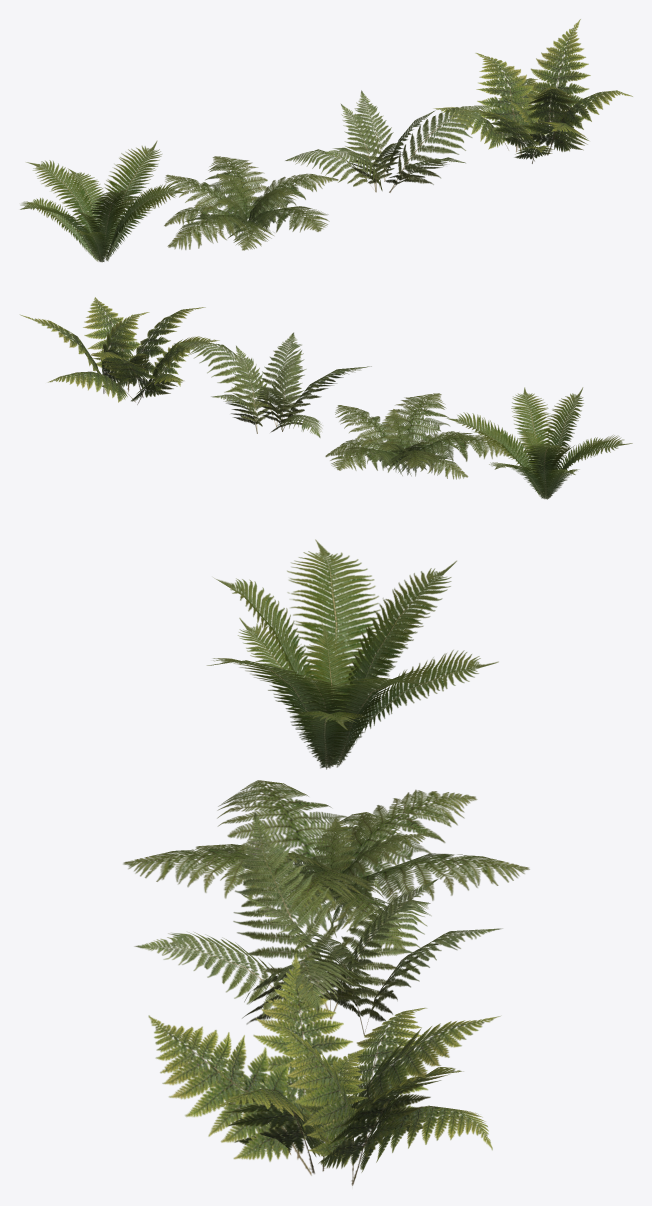
File: env_fern_bush.glb
The picture shows the model from 3 angles, top to bottom: view 1: azimuth 30°, elevation 25°; view 2: azimuth 150°, elevation 25°; view 3: azimuth 270°, elevation 25°; orthographic projection. The views are drawn at different scales.
Visible parts, largest first — view 1: Fern02_01, Fern03_01, Fern04_01, Fern01_01; view 2: Fern03_01, Fern02_01, Fern04_01, Fern01_01; view 3: Fern02_01, Fern04_01, Fern03_01, Fern01_01.
Boxes of the visible parts, <box> form: Fern02_01: <box>433,19,632,163</box>; Fern03_01: <box>164,156,338,250</box>; Fern04_01: <box>20,140,187,262</box>; Fern01_01: <box>285,90,496,192</box>; Fern03_01: <box>325,393,515,479</box>; Fern02_01: <box>20,297,219,404</box>; Fern04_01: <box>446,387,632,499</box>; Fern01_01: <box>174,332,371,437</box>; Fern02_01: <box>148,953,500,1185</box>; Fern04_01: <box>207,539,498,769</box>; Fern03_01: <box>123,780,529,949</box>; Fern01_01: <box>134,811,502,1035</box>.
Bounding box in the file's own units: 5.57 × 0.9453 × 1.8.
Materials: 1 (1 with a texture image).
